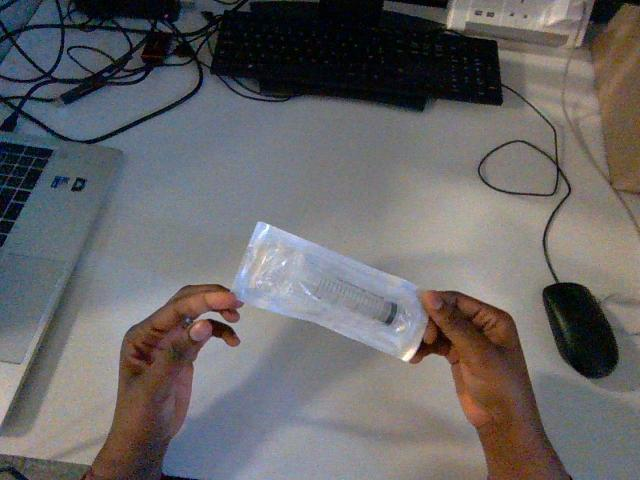syringe: (232, 222, 427, 360)
